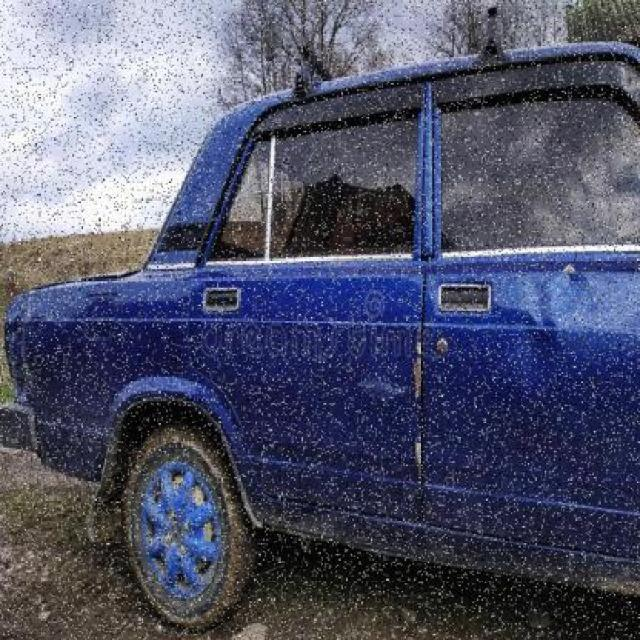doorouter-dent: (200, 263, 420, 517), (426, 263, 639, 525)
